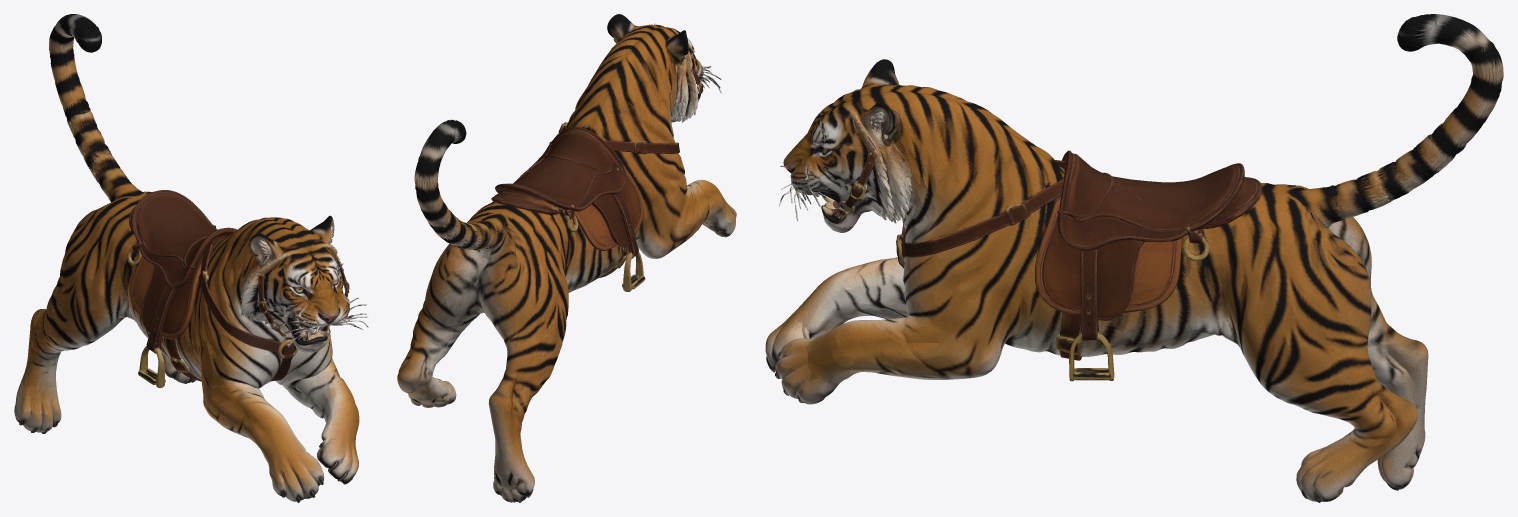
Rendered from tiger.glb.
The picture shows the model from 3 angles, left to right: view 1: azimuth 30°, elevation 25°; view 2: azimuth 150°, elevation 25°; view 3: azimuth 270°, elevation 25°; orthographic projection. The views are drawn at different scales.
Bounding box in the file's own units: 0.5922 × 1.44 × 1.9.
Materials: 1 (1 with a texture image).
